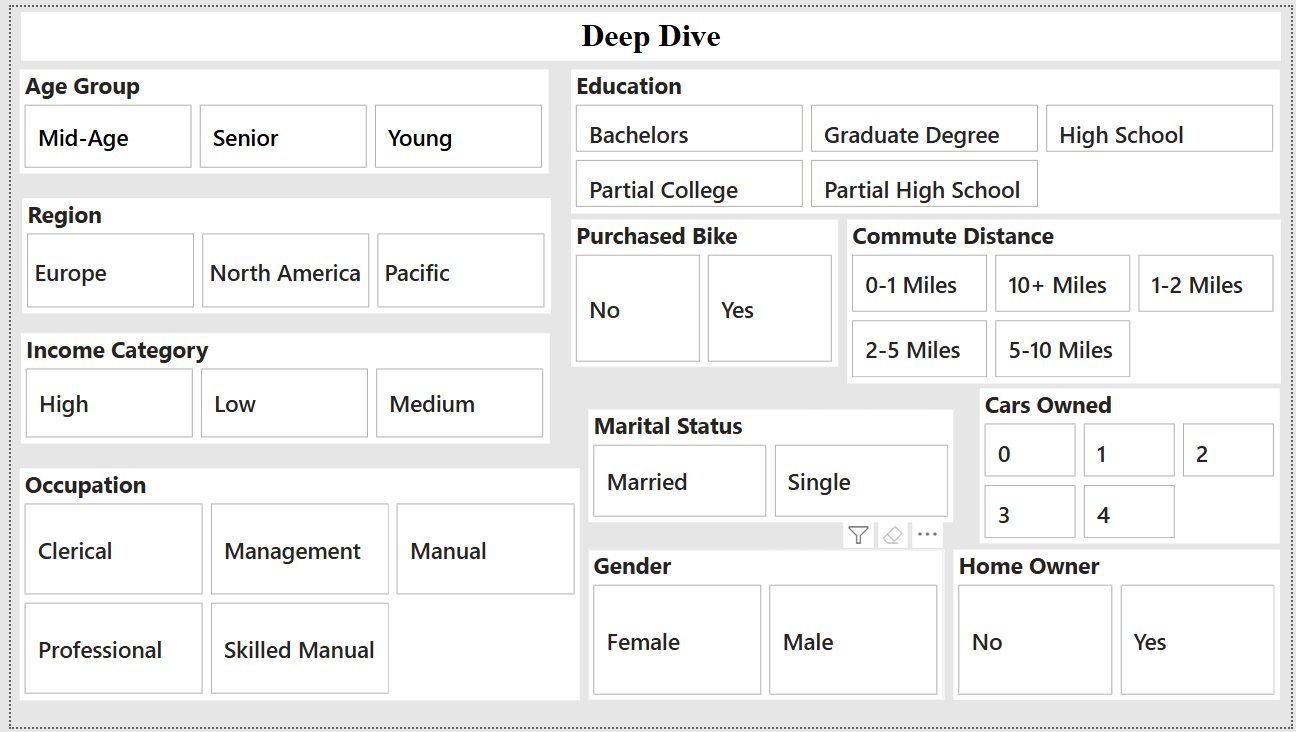

Layout of this report page (visuals, bound fields, positions):
{"tool":"powerbi","page":{"name":"Deep Dive","canvas":[1280,720],"ordinal":3},"visuals":[{"type":"advancedSlicerVisual","title":"Age Group","fields":{"Values":["bike_buyers.AgeGroup"]},"box":[8.8,62.5,528.8,103.8],"z":0},{"type":"advancedSlicerVisual","fields":{"Values":["bike_buyers.Region"]},"box":[11.2,191.2,528.8,115],"z":1},{"type":"advancedSlicerVisual","title":"Commute Distance","fields":{"Values":["bike_buyers.CommuteDistance"]},"box":[836.2,212.5,433.8,163.8],"z":2},{"type":"advancedSlicerVisual","fields":{"Values":["bike_buyers.Gender"]},"box":[577.2,542.9,355.8,150.4],"z":3},{"type":"advancedSlicerVisual","title":"Cars Owned ","fields":{"Values":["bike_buyers.Cars"]},"box":[968.8,381.2,300,155],"z":4},{"type":"advancedSlicerVisual","title":"Income Category","fields":{"Values":["bike_buyers.IncomeCategory"]},"box":[10,326.2,528.8,110],"z":5},{"type":"advancedSlicerVisual","title":"Marital Status","fields":{"Values":["bike_buyers.MaritalStatus"]},"box":[577.5,402.5,365,112.5],"z":6},{"type":"advancedSlicerVisual","fields":{"Values":["bike_buyers.Occupation"]},"box":[8.6,461,560.1,232.3],"z":7},{"type":"advancedSlicerVisual","title":"Home Owner","fields":{"Values":["bike_buyers.HomeOwner"]},"box":[942.8,542.9,326.5,150.4],"z":8},{"type":"advancedSlicerVisual","fields":{"Values":["bike_buyers.Education"]},"box":[560,62.5,708.8,143.8],"z":9},{"type":"advancedSlicerVisual","fields":{"Values":["bike_buyers.PurchasedBike"]},"box":[560,212.5,267.5,147.5],"z":10},{"type":"textbox","box":[10,5,1260,48.8],"z":11}]}

Visuals, with their boxes in screenshot pixels (x1, y1, x2, y2), scaled from the page's 1280x720 canvas onto the 1296x732 screenshot:
"Age Group" advancedSlicerVisual: (9,64,544,169)
advancedSlicerVisual - bike_buyers.Region: (11,194,547,311)
"Commute Distance" advancedSlicerVisual: (847,216,1286,383)
advancedSlicerVisual - bike_buyers.Gender: (584,552,945,705)
"Cars Owned " advancedSlicerVisual: (981,388,1285,545)
"Income Category" advancedSlicerVisual: (10,332,546,443)
"Marital Status" advancedSlicerVisual: (585,409,954,524)
advancedSlicerVisual - bike_buyers.Occupation: (9,469,576,705)
"Home Owner" advancedSlicerVisual: (955,552,1285,705)
advancedSlicerVisual - bike_buyers.Education: (567,64,1285,210)
advancedSlicerVisual - bike_buyers.PurchasedBike: (567,216,838,366)
textbox: (10,5,1286,55)
